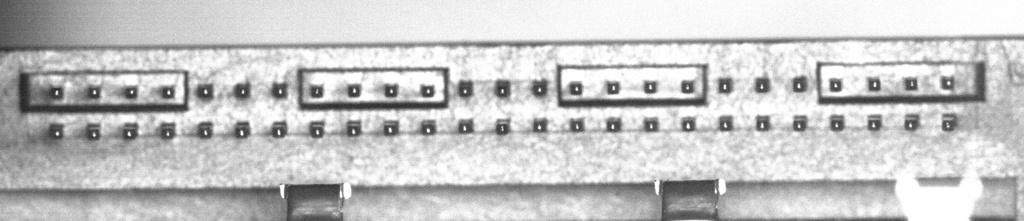pin_ok: (271, 120, 288, 138), (271, 81, 288, 98), (48, 122, 65, 139), (457, 79, 473, 97), (941, 114, 957, 131), (234, 81, 250, 98), (196, 83, 213, 99), (531, 79, 547, 96), (792, 75, 808, 92), (494, 80, 510, 97), (421, 119, 438, 135), (234, 121, 250, 138), (159, 122, 175, 139), (346, 119, 362, 136), (755, 76, 771, 92), (755, 115, 771, 131), (717, 77, 733, 93), (904, 114, 920, 130), (792, 115, 808, 131), (197, 122, 213, 138), (495, 118, 511, 134), (457, 118, 473, 134), (569, 117, 585, 132), (718, 115, 734, 130), (532, 117, 548, 132), (123, 124, 138, 140), (384, 119, 399, 135), (940, 75, 955, 90), (681, 116, 696, 131), (829, 115, 844, 130), (867, 115, 882, 130), (828, 77, 843, 92), (903, 76, 918, 91), (309, 123, 324, 138), (606, 117, 622, 131), (643, 117, 659, 131), (867, 76, 881, 91), (605, 80, 620, 94), (161, 85, 176, 99), (568, 81, 583, 95), (681, 79, 695, 94), (643, 79, 658, 93), (309, 84, 324, 98), (420, 83, 435, 97), (49, 85, 64, 99), (86, 126, 101, 140), (124, 85, 138, 99), (384, 83, 398, 97), (347, 83, 361, 97), (87, 85, 101, 99)
